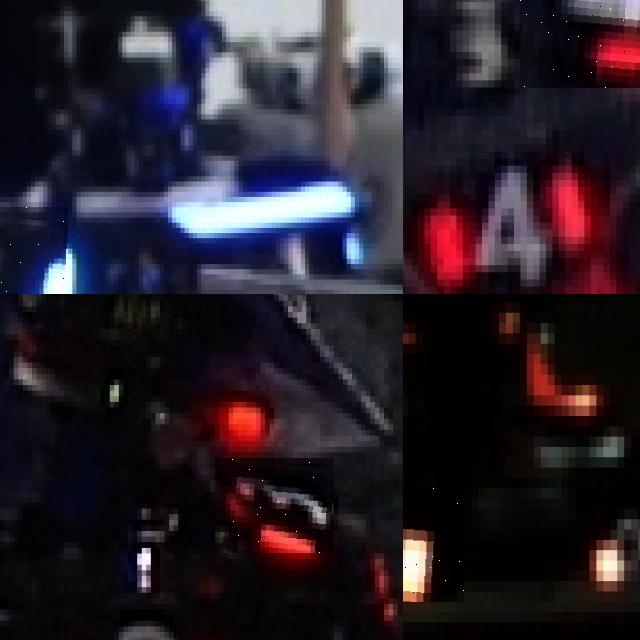B3: (0, 207, 68, 294)
R3: (215, 458, 334, 553)
R4: (418, 152, 597, 286), (520, 0, 640, 87)
Rs: (403, 488, 464, 601)
